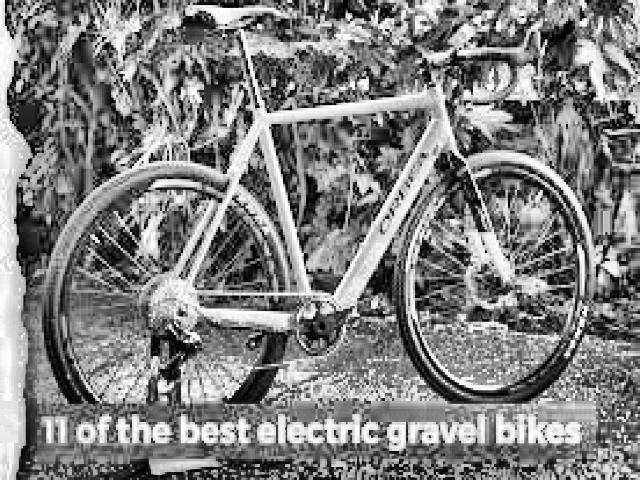cassette: (148, 278, 200, 332)
cranks_set: (291, 292, 373, 360)
pedal: (356, 292, 384, 316)
rear_derailleur: (155, 317, 205, 382)
saddle: (178, 0, 282, 34)
sti_shifter: (526, 22, 548, 98)
wheel: (42, 160, 290, 420), (393, 152, 592, 403)
